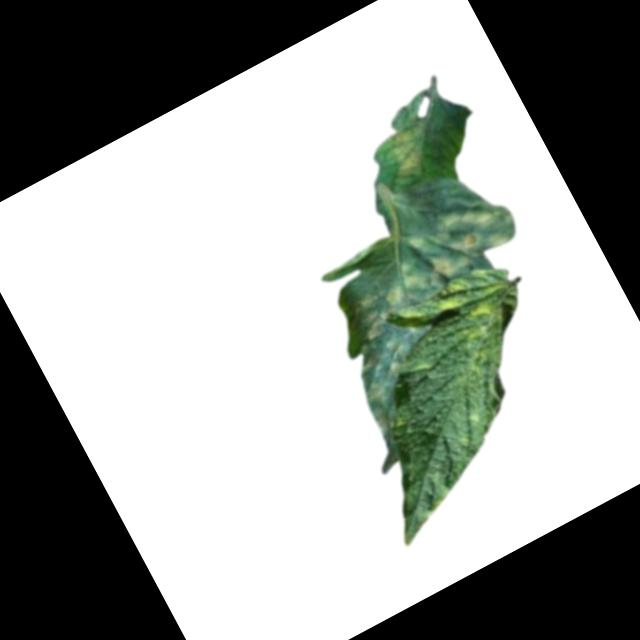Leaf_Mold: (332, 188, 534, 341), (433, 265, 542, 375), (381, 119, 445, 183)
